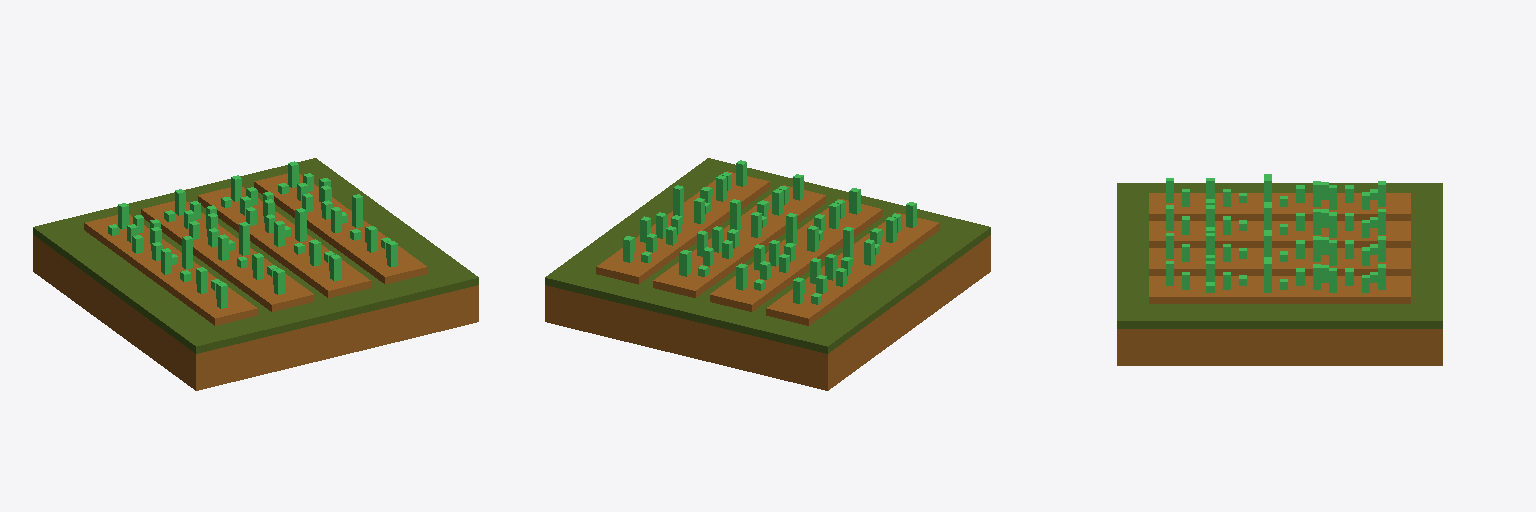
3 renders of one model, left to right at view 1: azimuth 30°, elevation 25°; view 2: azimuth 150°, elevation 25°; view 3: azimuth 270°, elevation 25°, orthographic.
Visible parts, largest first — view 1: object 1; view 2: object 1; view 3: object 1.
Part boxes in pixels (left/top/right/bottom): object 1: left=33, top=158, right=478, bottom=390; object 1: left=545, top=158, right=990, bottom=390; object 1: left=1117, top=174, right=1442, bottom=365.
Bounding box in the file's own units: 4 × 1.1 × 4.
Materials: 1 (1 with a texture image).